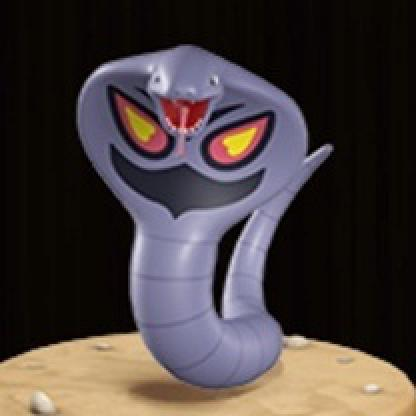Arbok: (64, 42, 331, 395)
